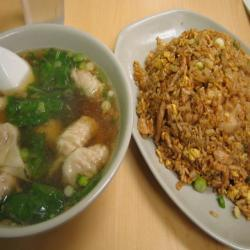rice: (129, 32, 250, 212)
